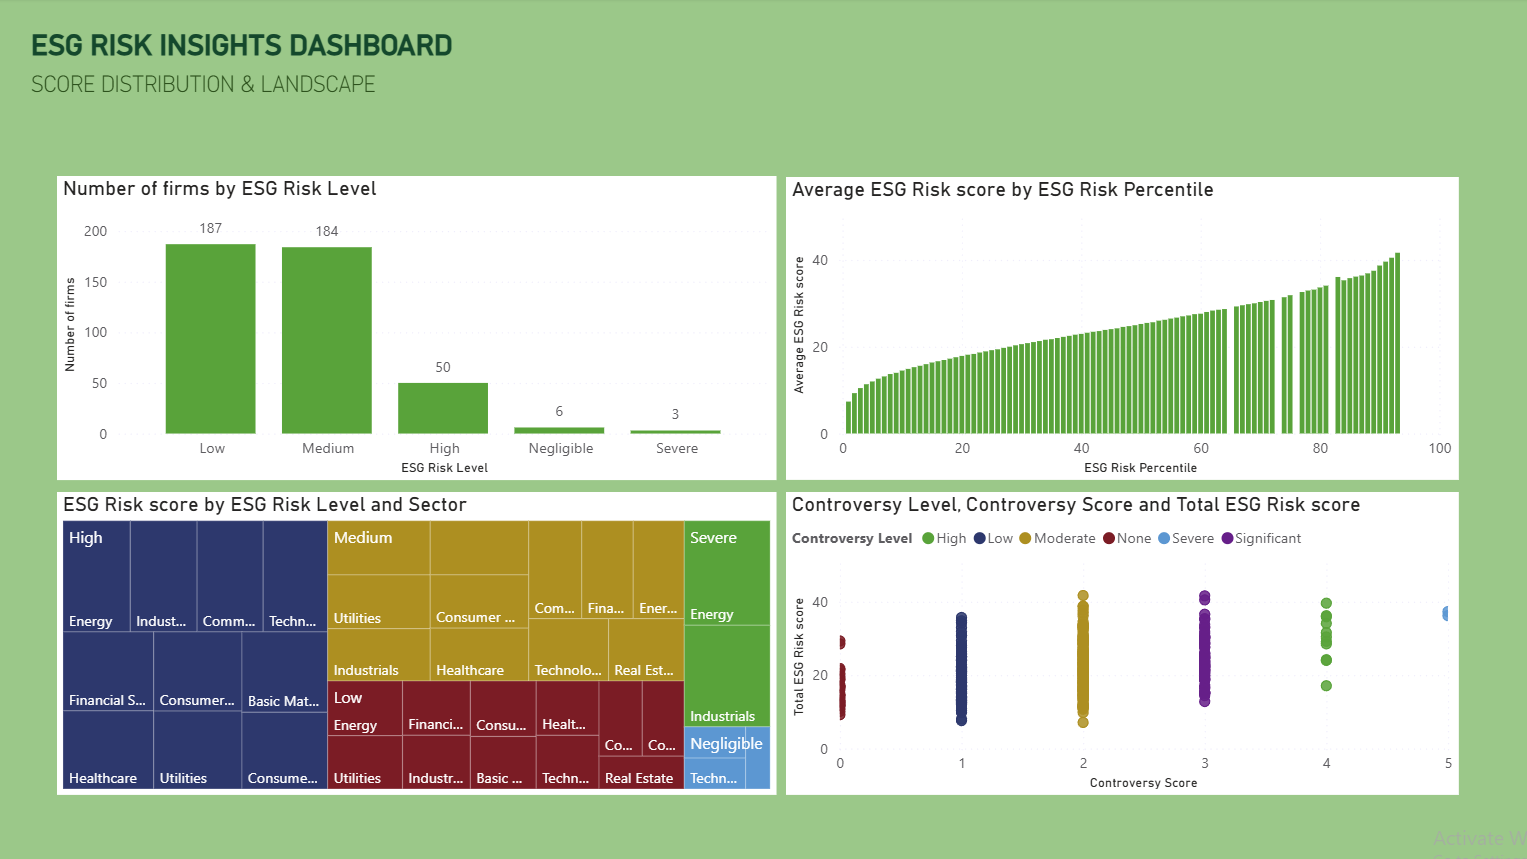

The page's visual inventory and layout, read from the dashboard file:
{"tool":"powerbi","page":{"name":"Score distribution & Landscape","canvas":[1280,720],"ordinal":1},"visuals":[{"type":"clusteredColumnChart","fields":{"Category":["SP 500 ESG Risk Ratings.ESG Risk Level"],"Y":["CountNonNull(SP 500 ESG Risk Ratings.Name)"]},"box":[50,148.6,600.6,254.1],"z":0},{"type":"treemap","title":"ESG Risk score by ESG Risk Level and Sector","fields":{"Values":["Avg(SP 500 ESG Risk Ratings.Total ESG Risk score)"],"Group":["SP 500 ESG Risk Ratings.ESG Risk Level"],"Details":["SP 500 ESG Risk Ratings.Sector"]},"box":[50,412.7,600.6,253.2],"z":1000},{"type":"group","id":"g1","title":"Group 1","box":[23.3,20.9,1234.4,77.3],"z":2000},{"type":"textbox","box":[23.3,20.9,1234.4,41.7],"z":2000,"group":"g1"},{"type":"textbox","box":[23.3,54.8,301.8,43.4],"z":3000,"group":"g1"},{"type":"clusteredColumnChart","fields":{"Y":["Avg(SP 500 ESG Risk Ratings.Total ESG Risk score)"],"Category":["SP 500 ESG Risk Ratings.ESG Risk Percentile"]},"box":[659.1,149.5,561.9,253.2],"z":3000},{"type":"scatterChart","fields":{"X":["SP 500 ESG Risk Ratings.Controversy Score"],"Y":["SP 500 ESG Risk Ratings.Total ESG Risk score"],"Series":["SP 500 ESG Risk Ratings.Controversy Level"]},"box":[659.1,412.7,561.9,253.2],"z":4000}]}

Visuals, with their boxes in screenshot pixels (x1, y1, x2, y2), scaled from the page's 1280x720 canvas onto the 1527x859 screenshot:
clusteredColumnChart - SP 500 ESG Risk Ratings.ESG Risk Level x CountNonNull(SP 500 ESG Risk Ratings.Name): bbox(60, 177, 776, 480)
"ESG Risk score by ESG Risk Level and Sector" treemap: bbox(60, 492, 776, 794)
"Group 1" group: bbox(28, 25, 1500, 117)
textbox: bbox(28, 25, 1500, 75)
textbox: bbox(28, 65, 388, 117)
clusteredColumnChart - Avg(SP 500 ESG Risk Ratings.Total ESG Risk score) x SP 500 ESG Risk Ratings.ESG Risk Percentile: bbox(786, 178, 1457, 480)
scatterChart - SP 500 ESG Risk Ratings.Controversy Score x SP 500 ESG Risk Ratings.Total ESG Risk score: bbox(786, 492, 1457, 794)
